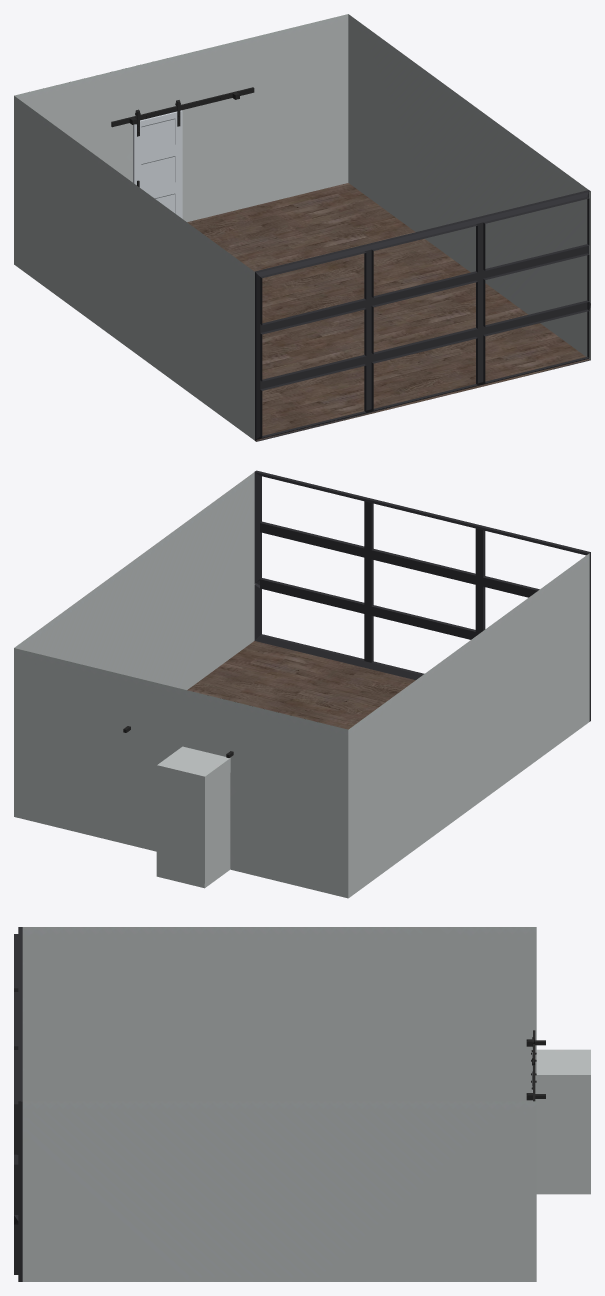
File: vide-grande.glb
3 views of the same model, one above another, from view 1: azimuth 30°, elevation 25°; view 2: azimuth 150°, elevation 25°; view 3: azimuth 270°, elevation 25° (orthographic). The views are drawn at different scales.
Parts seen in each view (by area): view 1: room; view 2: room; view 3: room.
Boxes of the visible parts, left/top/right/bottom form: room: left=14, top=14, right=590, bottom=441; room: left=14, top=470, right=590, bottom=898; room: left=14, top=927, right=590, bottom=1281.
Size of the model in its own units: 6.32 by 3.05 by 8.84.
Materials: 6 (2 with a texture image).
